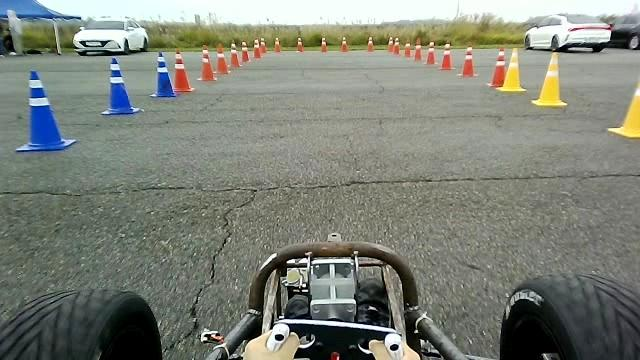blue cone: (14, 68, 76, 152), (100, 57, 140, 116), (151, 50, 178, 97)
red cone: (172, 49, 195, 92), (486, 47, 506, 87), (196, 44, 217, 81), (456, 45, 479, 77), (215, 43, 230, 74), (438, 43, 455, 70)
yellow cone: (531, 51, 567, 107), (607, 80, 639, 138), (495, 47, 527, 92)
